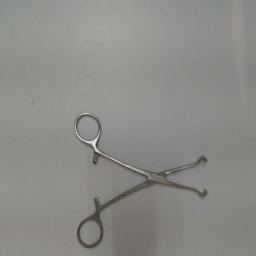Babcock Tissue Forceps: (72, 109, 212, 253)
